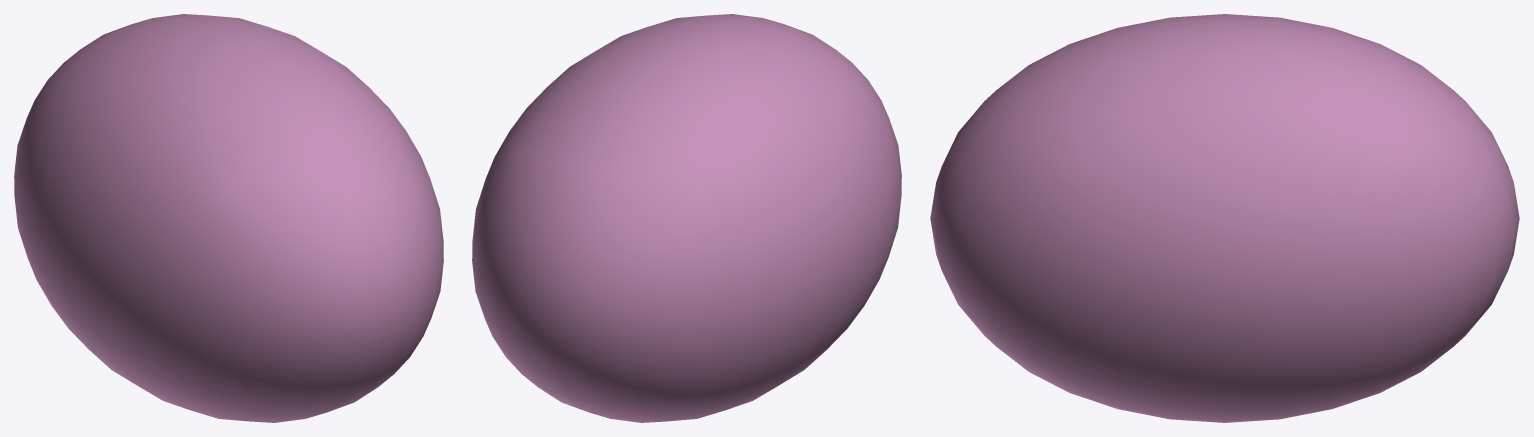
3 renders of one model, left to right at view 1: azimuth 30°, elevation 25°; view 2: azimuth 150°, elevation 25°; view 3: azimuth 270°, elevation 25°, orthographic. The views are drawn at different scales.
Parts seen in each view (by area): view 1: 右侧下泌涎核; view 2: 右侧下泌涎核; view 3: 右侧下泌涎核.
Part boxes in pixels (bbox=[...]): 右侧下泌涎核: bbox=[14, 14, 443, 422]; 右侧下泌涎核: bbox=[472, 14, 901, 422]; 右侧下泌涎核: bbox=[930, 14, 1519, 422].
Bounding box in the file's own units: 0.00166 × 0.00166 × 0.00238.
